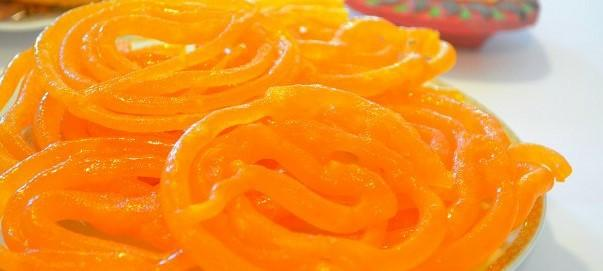Jalebi: (0, 0, 574, 271)
